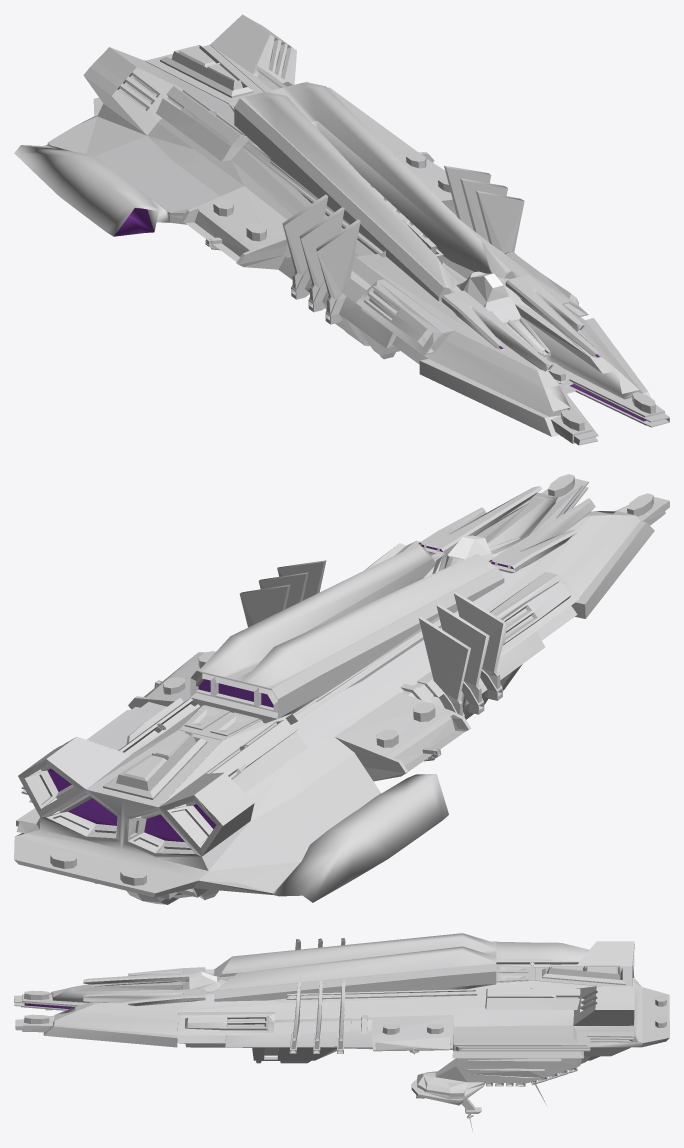
Rendered from PortaNavesUNE.FBX.
3 views of the same model, one above another, from view 1: azimuth 30°, elevation 25°; view 2: azimuth 150°, elevation 25°; view 3: azimuth 270°, elevation 25° (orthographic). The views are drawn at different scales.
Visible parts, largest first — view 1: Box003; view 2: Box003; view 3: Box003.
Boxes of the visible parts, left/top/right/bottom form: Box003: left=14, top=14, right=669, bottom=445; Box003: left=14, top=474, right=669, bottom=904; Box003: left=14, top=933, right=669, bottom=1130.
Bounding box in the file's own units: 66.35 × 43.24 × 171.
